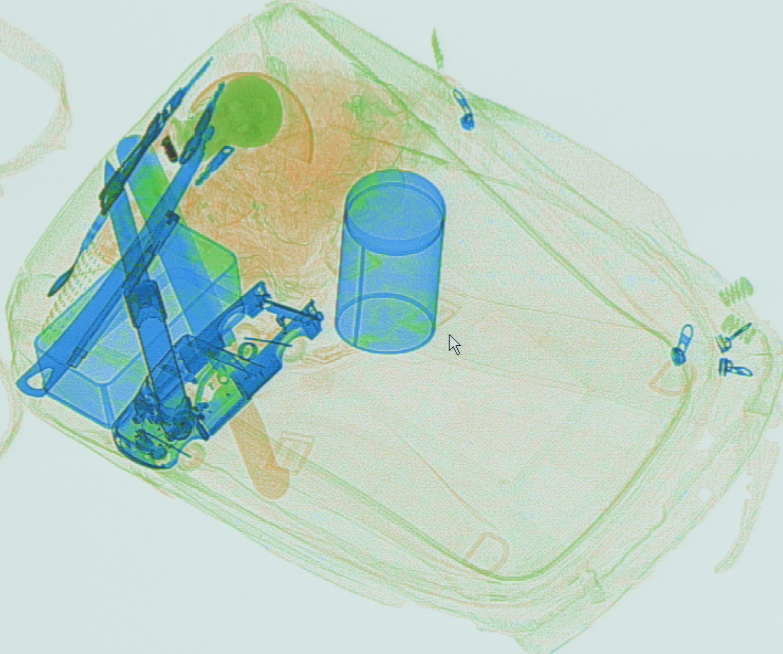knife: (110, 127, 292, 501), (102, 155, 193, 441)
